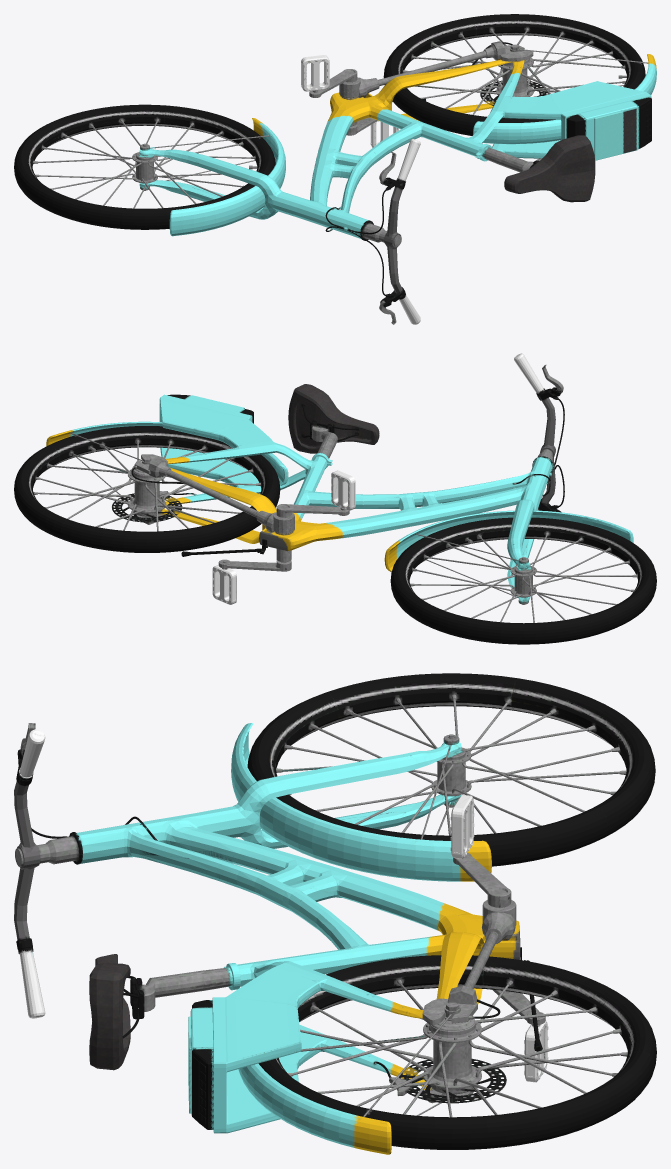
Rendered from Downloaded Object.obj.
3 renders of one model, top to bottom at view 1: azimuth 30°, elevation 25°; view 2: azimuth 150°, elevation 25°; view 3: azimuth 270°, elevation 25°, orthographic. The views are drawn at different scales.
Parts seen in each view (by area): view 1: Object.1; view 2: Object.1; view 3: Object.1.
Part boxes in pixels (x1=…): Object.1: x1=14, y1=14, x2=656, y2=324; Object.1: x1=14, y1=353, x2=656, y2=644; Object.1: x1=14, y1=673, x2=656, y2=1154.
Size of the model in its own units: 2069 by 606 by 1226.
1 material, 1 textured.
